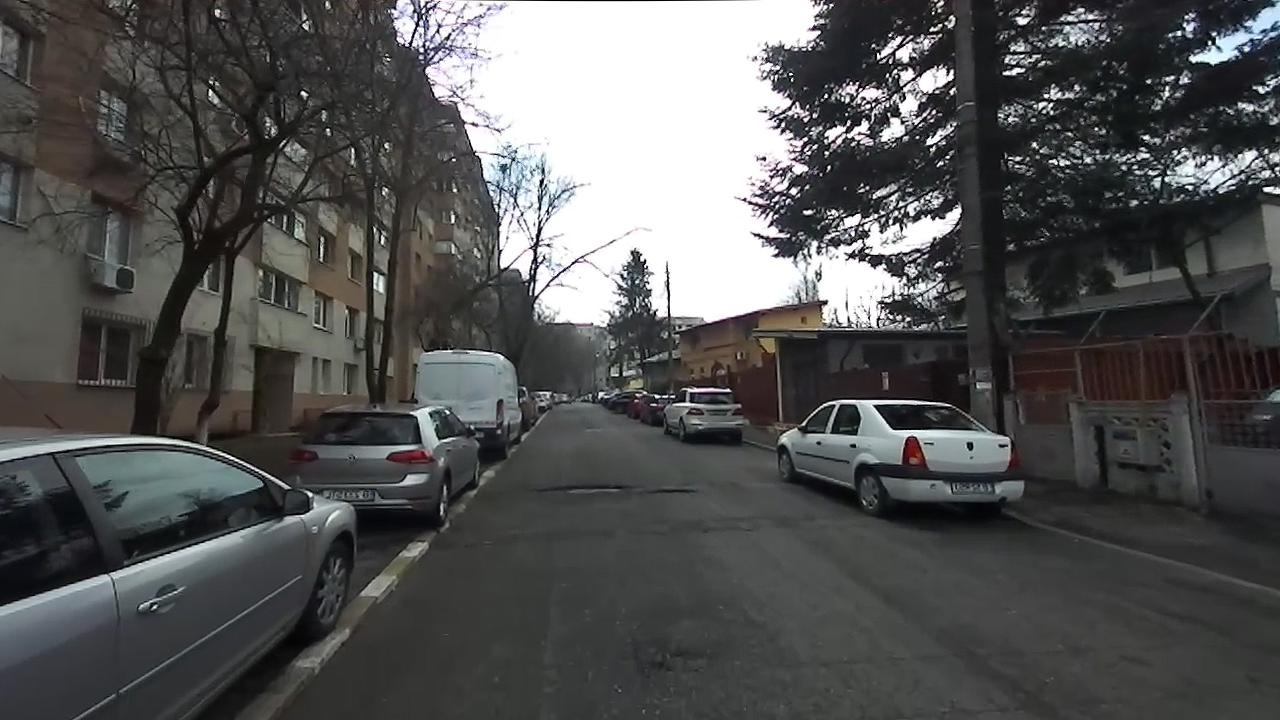pothole: (531, 480, 631, 499), (639, 645, 692, 676), (643, 484, 698, 497)
